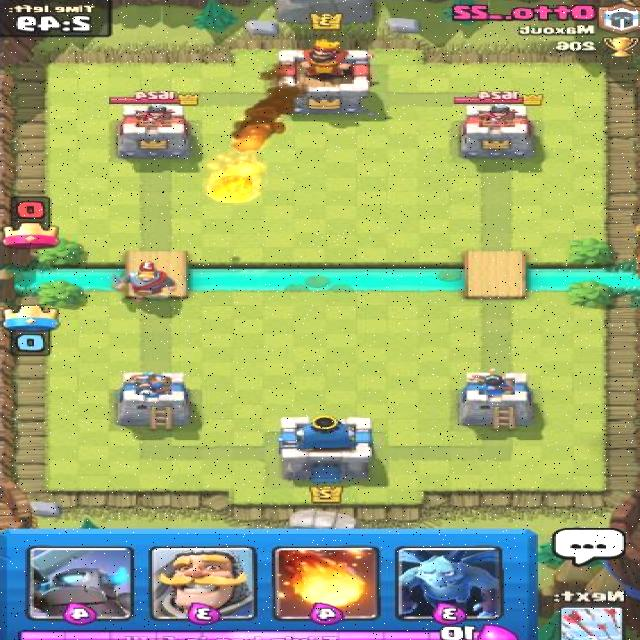Enemy-Fireball: (193, 150, 272, 207)
Enemy-Knight: (109, 260, 179, 303)
